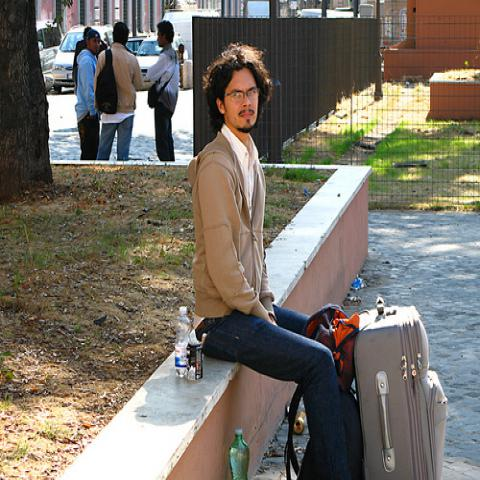car: (51, 24, 113, 95), (136, 35, 189, 77), (36, 20, 65, 91), (124, 37, 147, 56)
